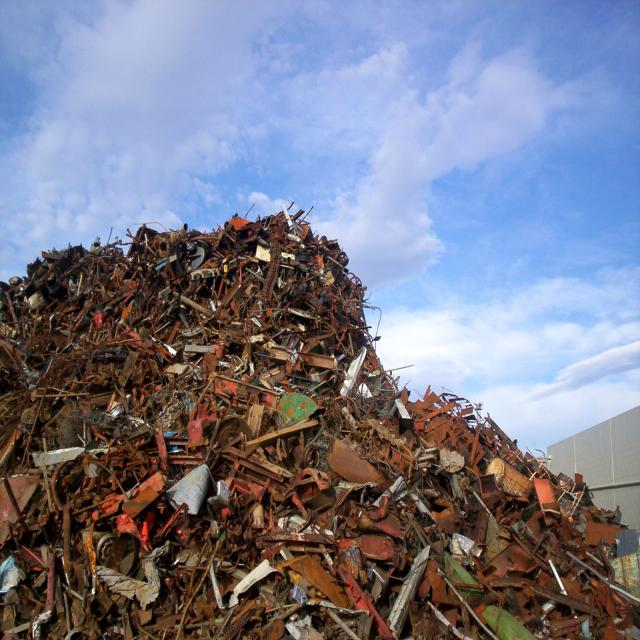metal: (82, 268, 368, 569)
